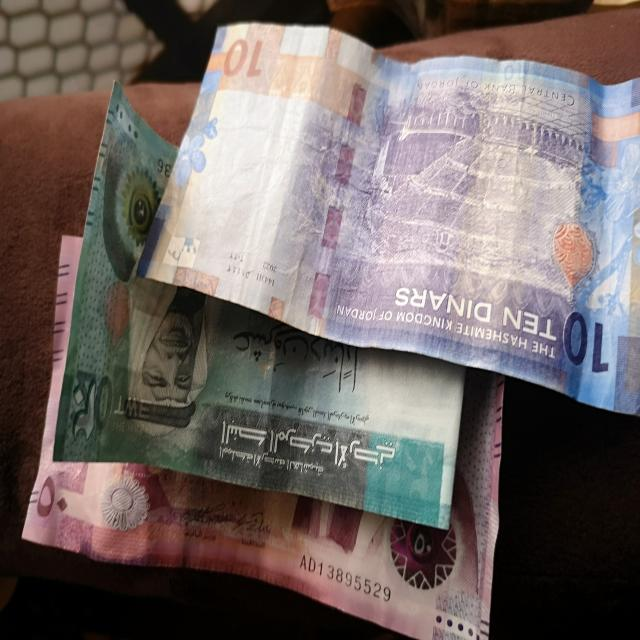10-dinar: (136, 21, 640, 416)
20-dinar: (52, 80, 466, 530)
50-dinar: (22, 235, 505, 640)
